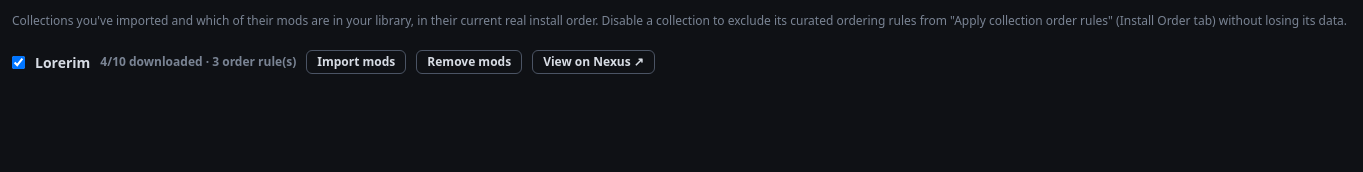
Test: CollectionsTab › enable checkbox posts and reverts on error
Click the checkbox named "enable Lorerim": (18, 62) [12,56,25,68]
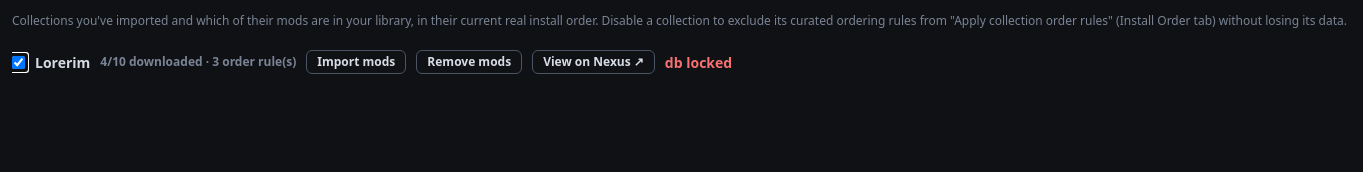
Now the text "db locked" is shown, box [665,52,732,72]
